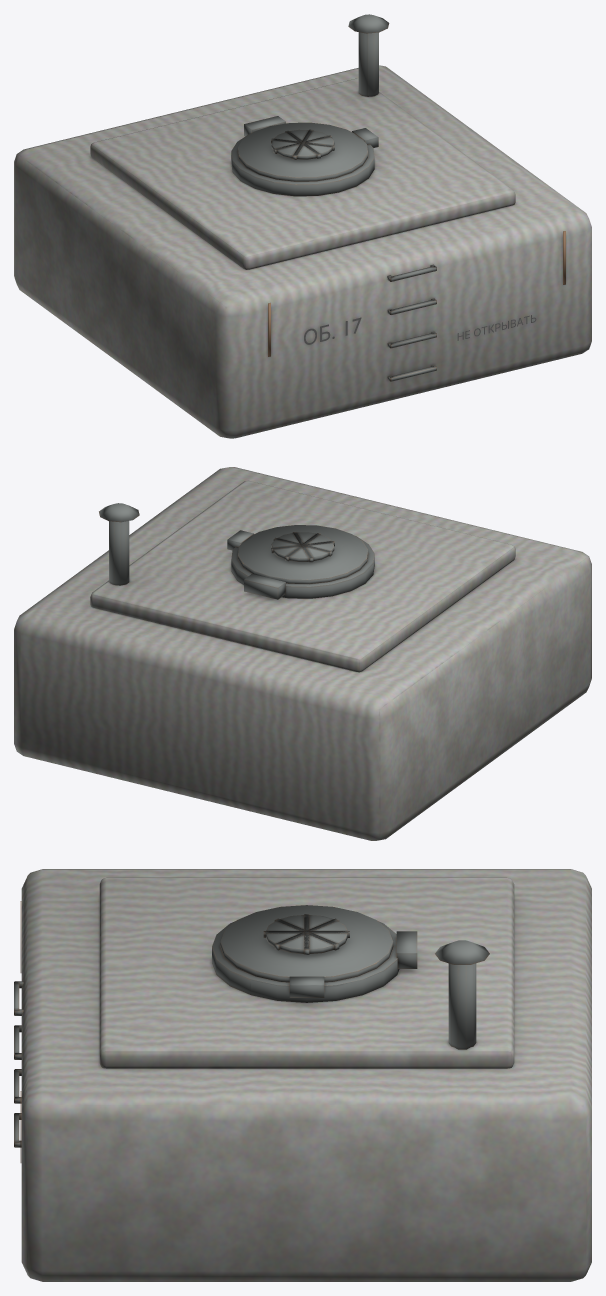
File: bunker_portal.glb
3 renders of one model, top to bottom at view 1: azimuth 30°, elevation 25°; view 2: azimuth 150°, elevation 25°; view 3: azimuth 270°, elevation 25°, orthographic. The views are drawn at different scales.
Parts seen in each view (by area): view 1: bunker_portal; view 2: bunker_portal; view 3: bunker_portal.
Boxes of the visible parts, <box> form: bunker_portal: <box>14,14,591,438</box>; bunker_portal: <box>14,467,591,840</box>; bunker_portal: <box>14,869,591,1281</box>.
Bounding box in the file's own units: 3.3 × 1.95 × 3.34.
1 material, 1 textured.
